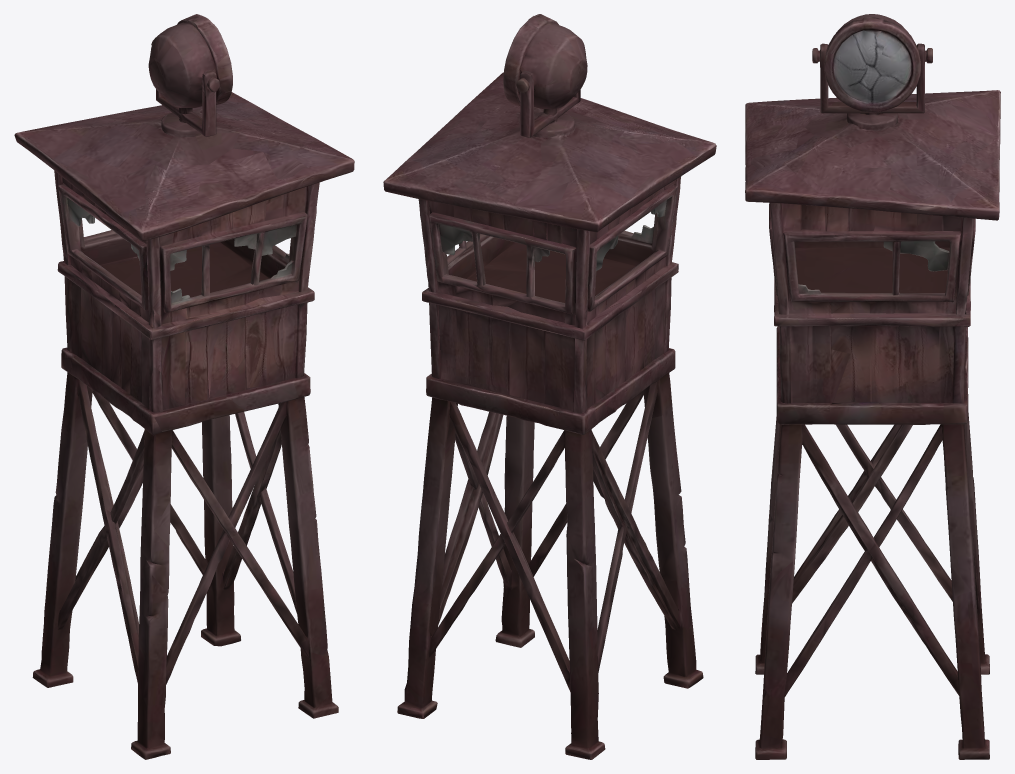
Rendered from prison_watchtower_b_idle.glb.
3 renders of one model, left to right at view 1: azimuth 30°, elevation 25°; view 2: azimuth 150°, elevation 25°; view 3: azimuth 270°, elevation 25°, orthographic. The views are drawn at different scales.
Visible parts, largest first — view 1: tripo_node_26fa73d2-186b-4edb-9fec-386080ce61ad; view 2: tripo_node_26fa73d2-186b-4edb-9fec-386080ce61ad; view 3: tripo_node_26fa73d2-186b-4edb-9fec-386080ce61ad.
Boxes of the visible parts, left/top/right/bottom form: tripo_node_26fa73d2-186b-4edb-9fec-386080ce61ad: left=14, top=14, right=354, bottom=759; tripo_node_26fa73d2-186b-4edb-9fec-386080ce61ad: left=383, top=14, right=716, bottom=759; tripo_node_26fa73d2-186b-4edb-9fec-386080ce61ad: left=745, top=14, right=1000, bottom=759.
Size of the model in its own units: 3.06 by 9 by 2.98.
1 material, 1 textured.
